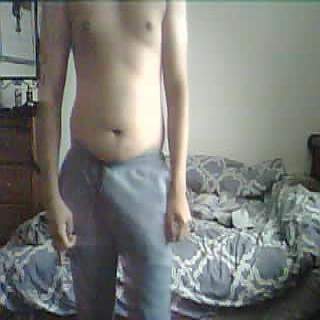Blue Sweatpants: (56, 130, 182, 320)
